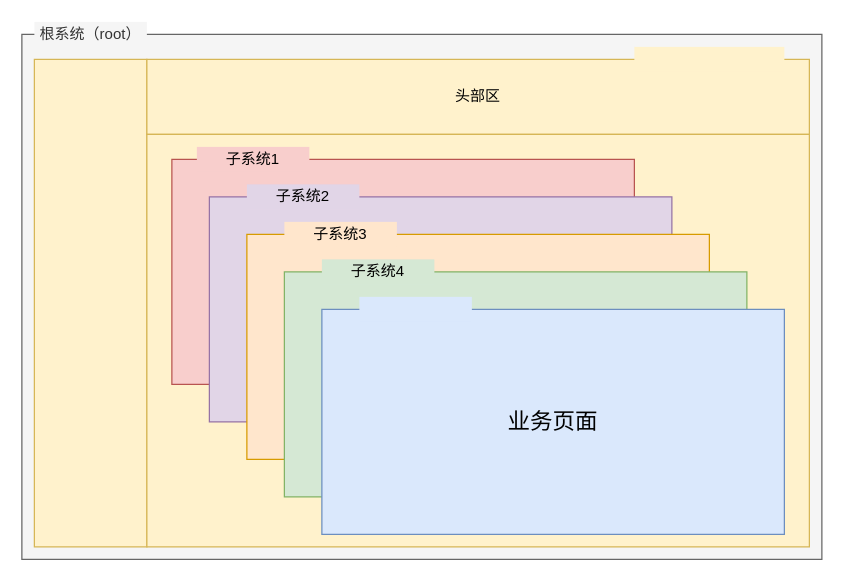
Image size: 844x581. Some labels were removed from this diagram. The centre of each missing label's shape, as x and y in pixels:
基座系统（platform）: the point at 709,58
子系统5: the point at 415,308
菜单区: the point at 90,302
